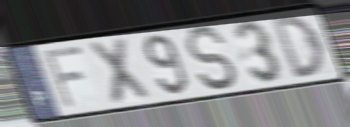3: (232, 18, 286, 86)
9: (143, 33, 190, 98)
D: (269, 13, 329, 81)
F: (41, 43, 87, 112)
S: (182, 25, 241, 93)
X: (85, 35, 155, 107)
